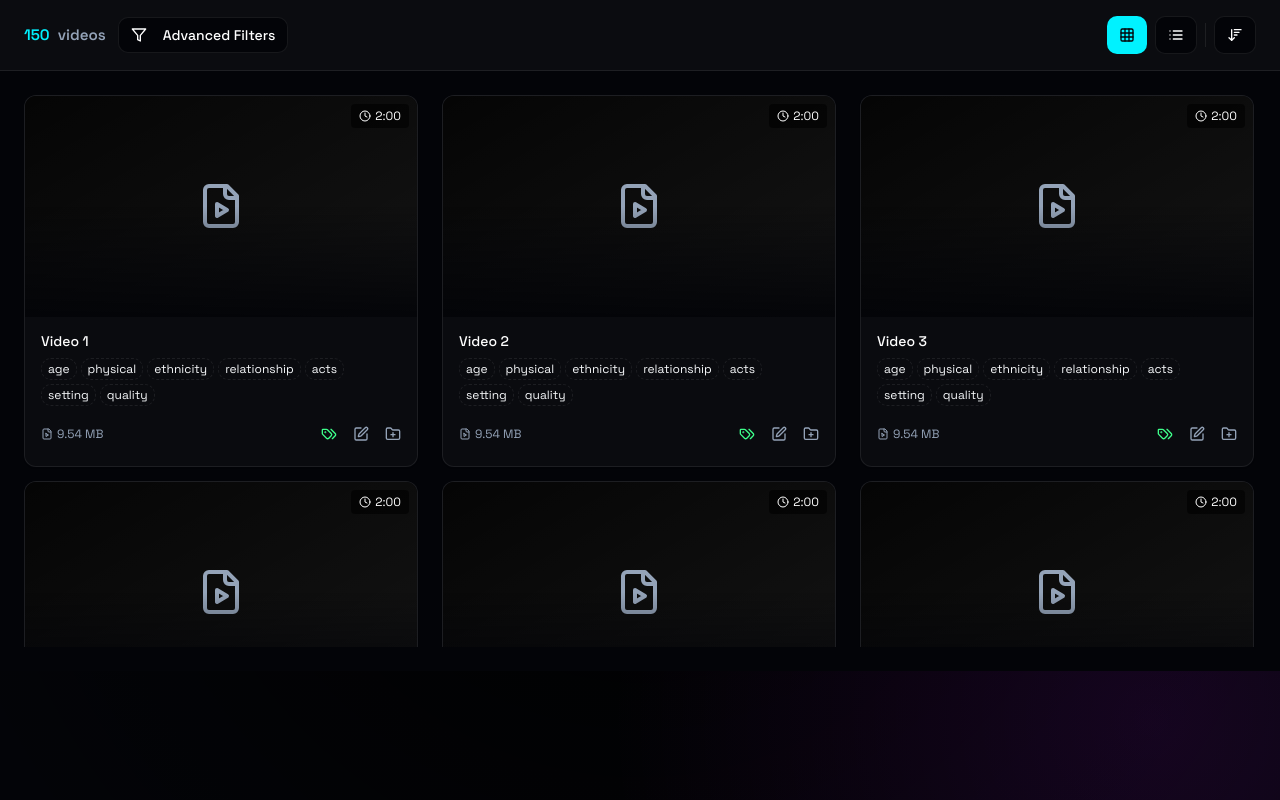
Test case: MainContent virtualization › renders a virtualized list when toggled
Click the button with test id "button-view-list".
click(1176, 35)  # box [1155,16,1197,54]
(page scrolled)
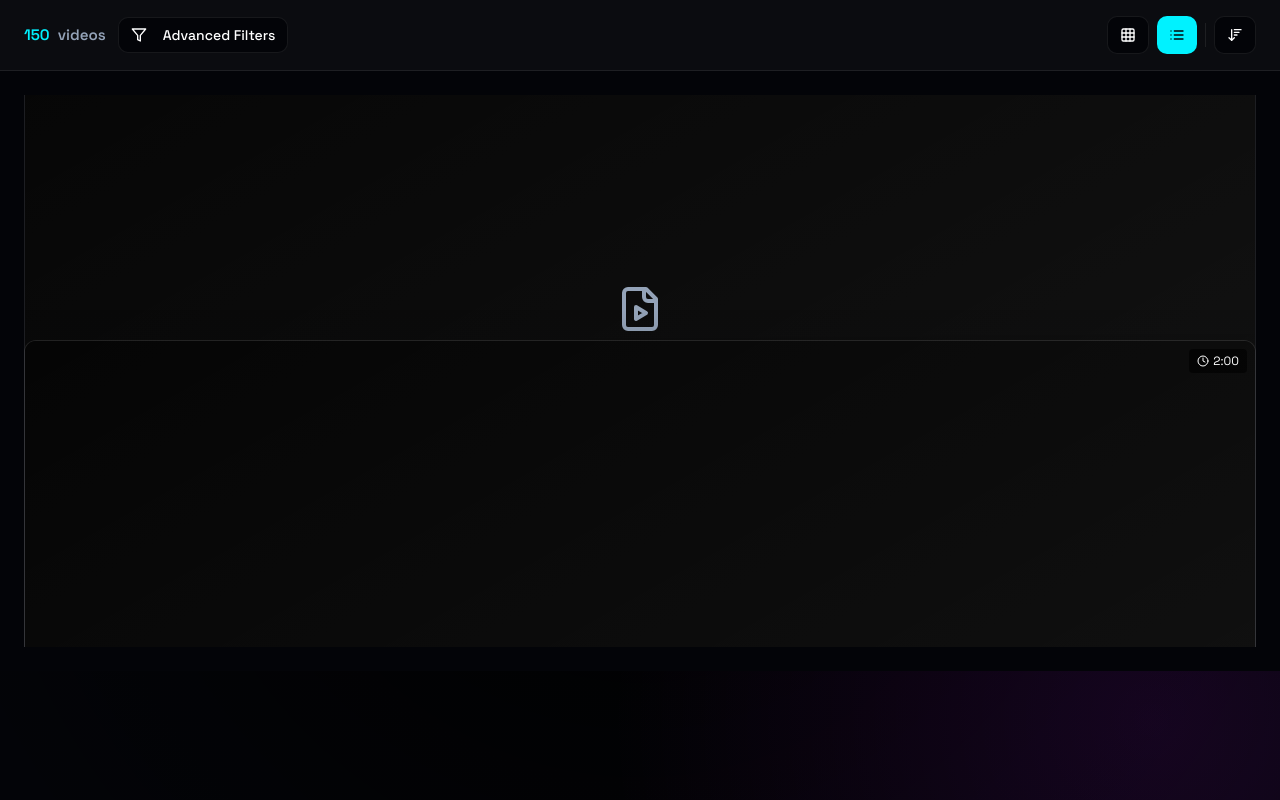
Check: the button with test id "video-card-" is shown
